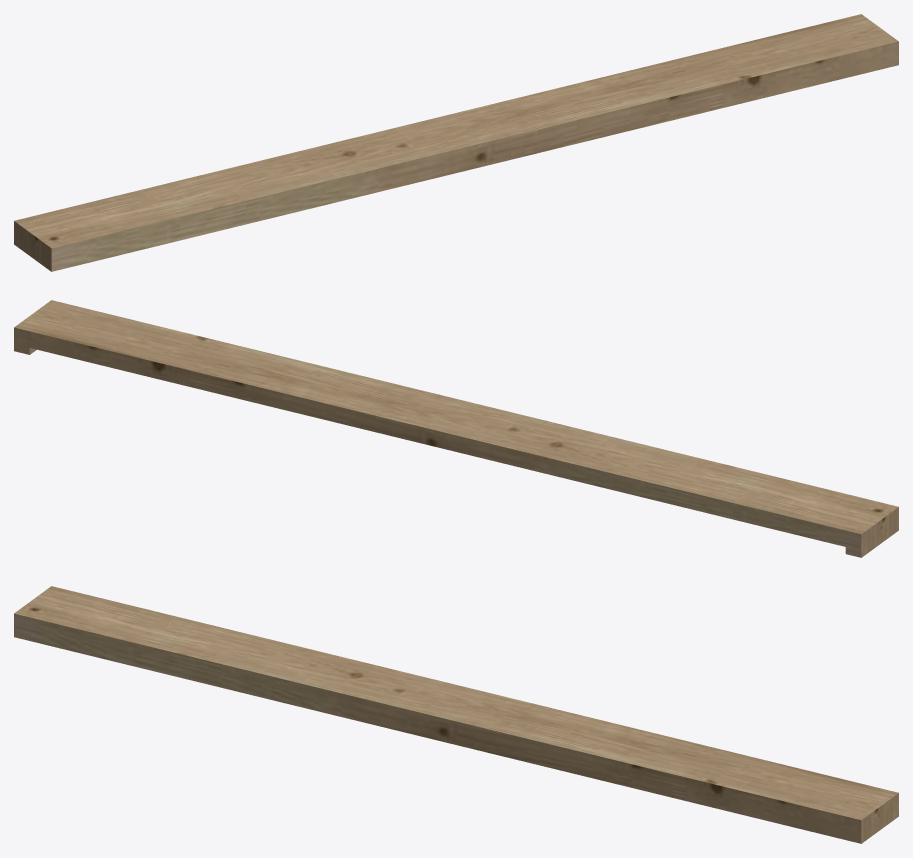
The model's file is Joglo_part_432.fbx.
3 views of the same model, one above another, from view 1: azimuth 30°, elevation 25°; view 2: azimuth 150°, elevation 25°; view 3: azimuth 330°, elevation 25° (orthographic).
Parts seen in each view (by area): view 1: Mesh99_Wood___Pine_Grained_Horizontal_0.001; view 2: Mesh99_Wood___Pine_Grained_Horizontal_0.001; view 3: Mesh99_Wood___Pine_Grained_Horizontal_0.001.
Boxes of the visible parts, x1,y1,x2,y2 form: Mesh99_Wood___Pine_Grained_Horizontal_0.001: (14, 14, 898, 271); Mesh99_Wood___Pine_Grained_Horizontal_0.001: (14, 300, 898, 557); Mesh99_Wood___Pine_Grained_Horizontal_0.001: (14, 586, 898, 843).
Bounding box in the file's own units: 59.05 × 1.57 × 4.53.
